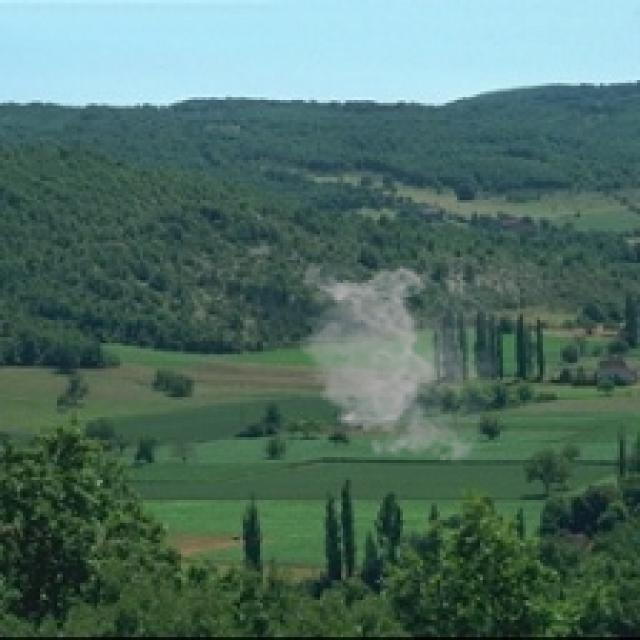Smoke: (292, 263, 497, 468)
